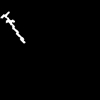double_crochet: (1, 12, 24, 42)
